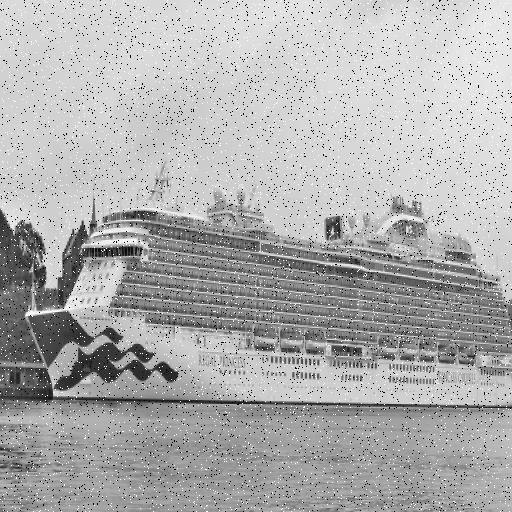cruises: (24, 156, 512, 420)
